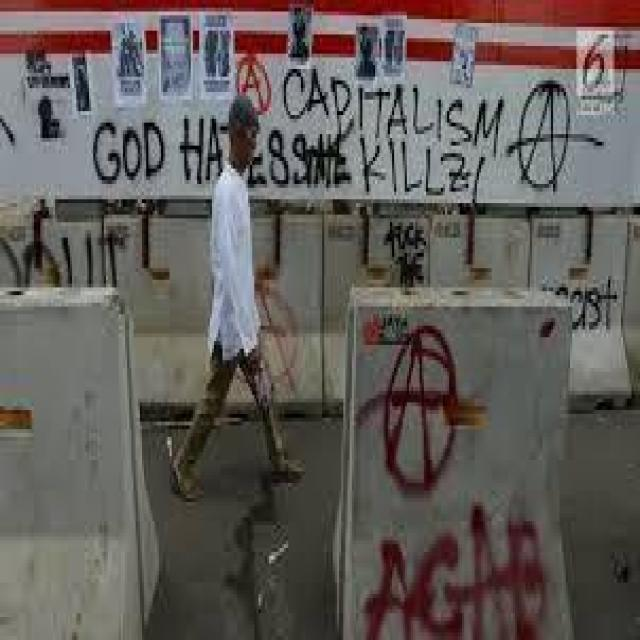nonspitting: (354, 322, 547, 640), (91, 111, 470, 193), (282, 65, 502, 158), (504, 76, 602, 192), (0, 230, 126, 289), (250, 276, 301, 394), (384, 222, 428, 287), (568, 276, 618, 333), (236, 54, 272, 114)
